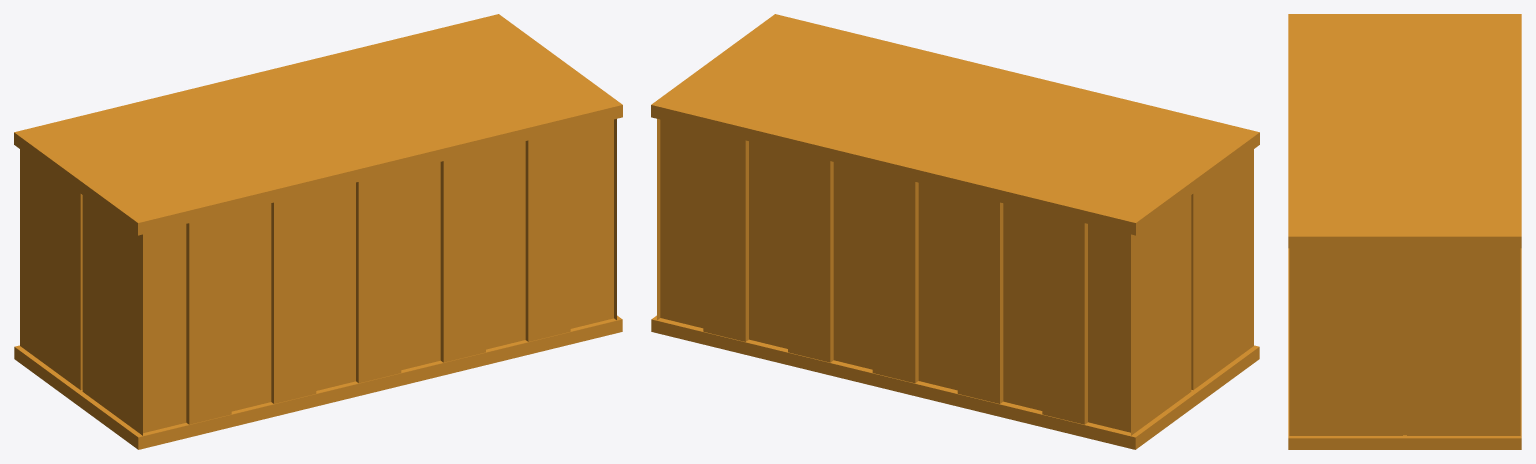
The model's file is YELLOW CONTAINER.fbx.
3 views of the same model, side by side, from view 1: azimuth 30°, elevation 25°; view 2: azimuth 150°, elevation 25°; view 3: azimuth 270°, elevation 25° (orthographic). The views are drawn at different scales.
Visible parts, largest first — view 1: Cube.098; view 2: Cube.098; view 3: Cube.098.
Part boxes in pixels (x1=…): Cube.098: x1=14, y1=14, x2=622, y2=449; Cube.098: x1=651, y1=14, x2=1259, y2=449; Cube.098: x1=1288, y1=14, x2=1521, y2=449.
Bounding box in the file's own units: 1127 × 504 × 500.
